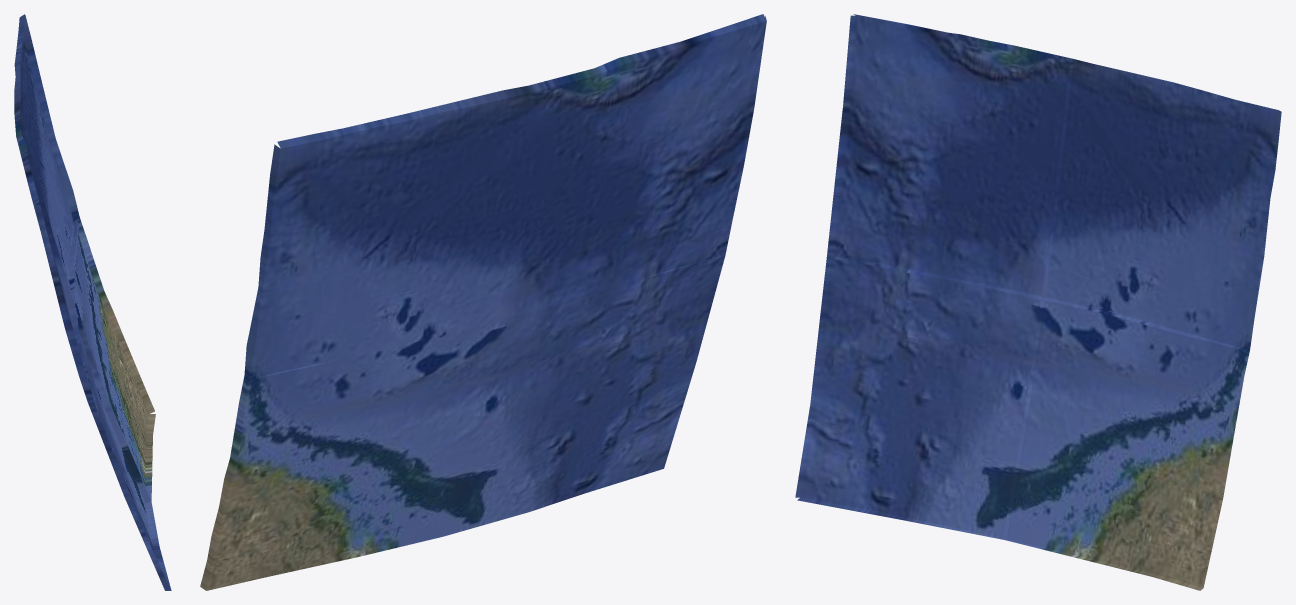
3 renders of one model, left to right at view 1: azimuth 30°, elevation 25°; view 2: azimuth 150°, elevation 25°; view 3: azimuth 270°, elevation 25°, orthographic. The views are drawn at different scales.
Size of the model in its own units: 894154 by 1209217 by 1235469.
1 material, 1 textured.
